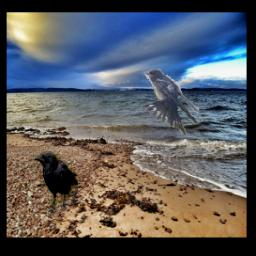Crow: (33, 152, 78, 216)
Swallow: (143, 69, 199, 135)
